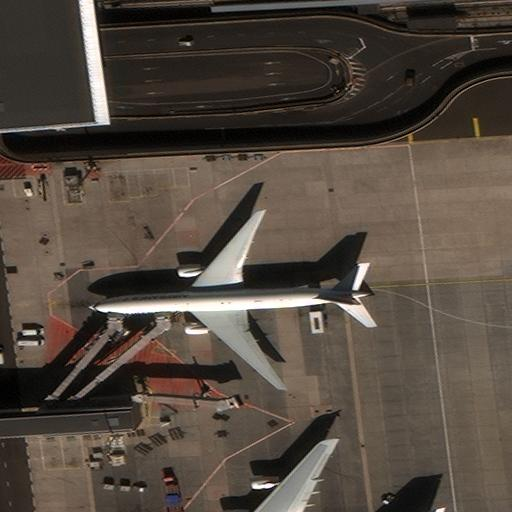Large Civil Transport: (88, 210, 369, 390), (211, 440, 399, 511)
